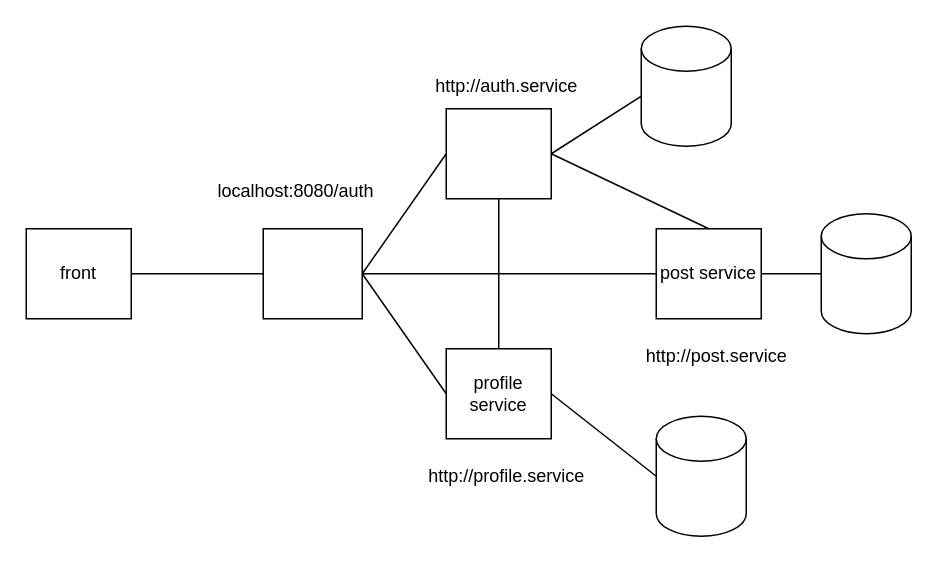
This 938x563 diagram has some shape labels left out. The box of each missing label's shape, as (x1, y1, x2, y2) in pixels:
api gateway: (262, 227, 362, 319)
auth service: (445, 107, 551, 199)
